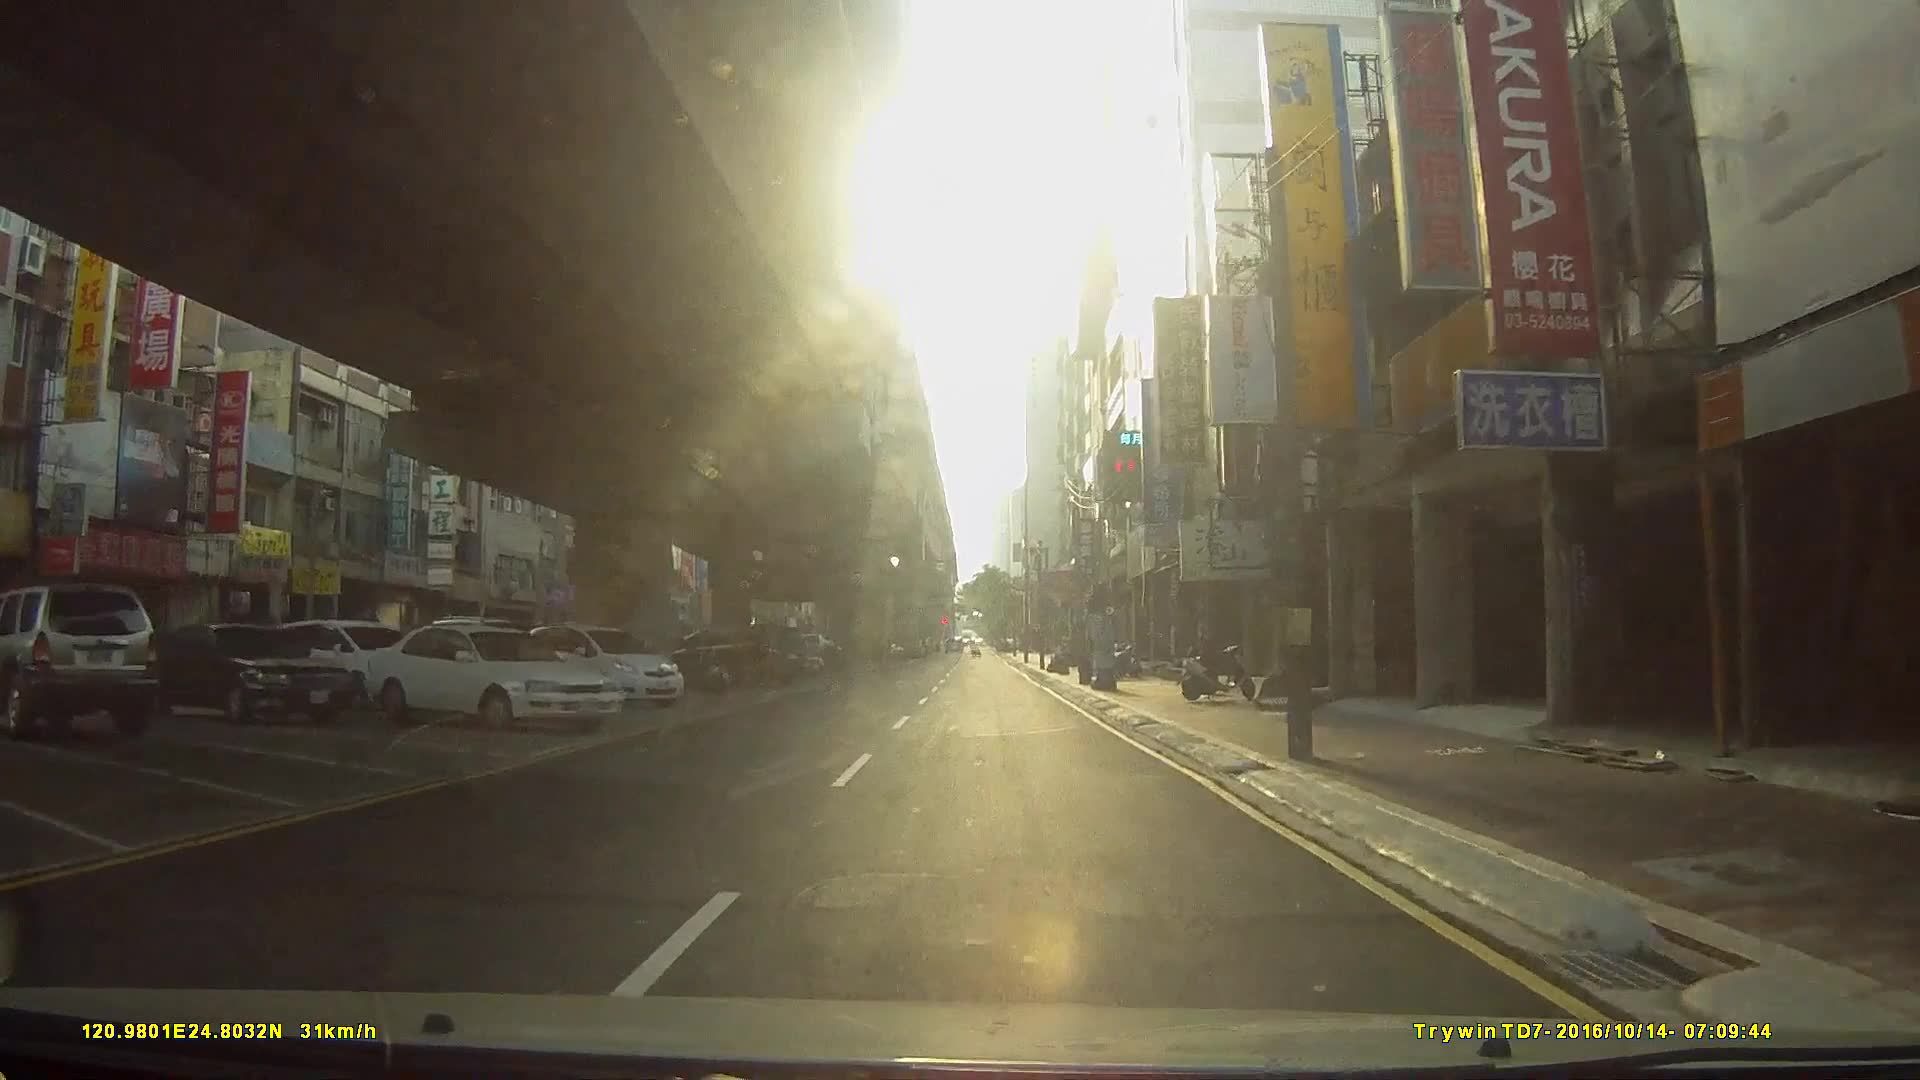vehicle: (360, 621, 621, 733), (0, 582, 160, 738), (133, 622, 359, 723), (516, 622, 682, 712), (270, 618, 422, 707)
